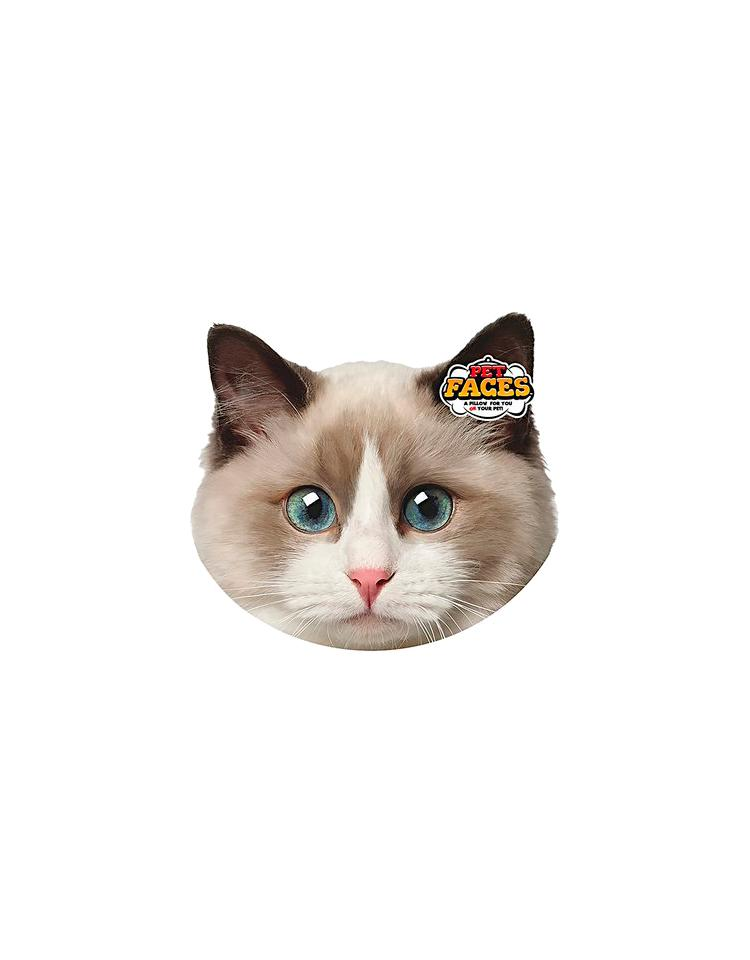ragdoll: (158, 294, 590, 695)
